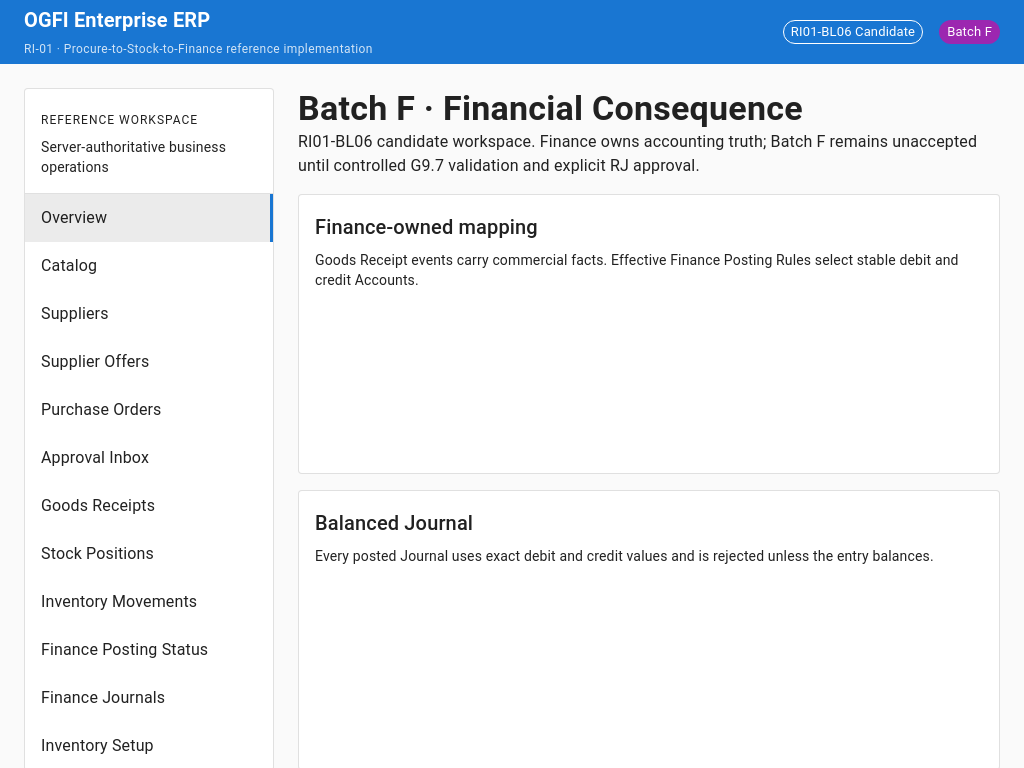
Test case: Batch F application workspace › renders Goods Receipt and derived Stock Position data through generated typed API paths
What coordinates should you click on to do the following:
click the link "Goods Receipts"
I would click on:
 (98, 505)
Its box is [41,496,155,515].
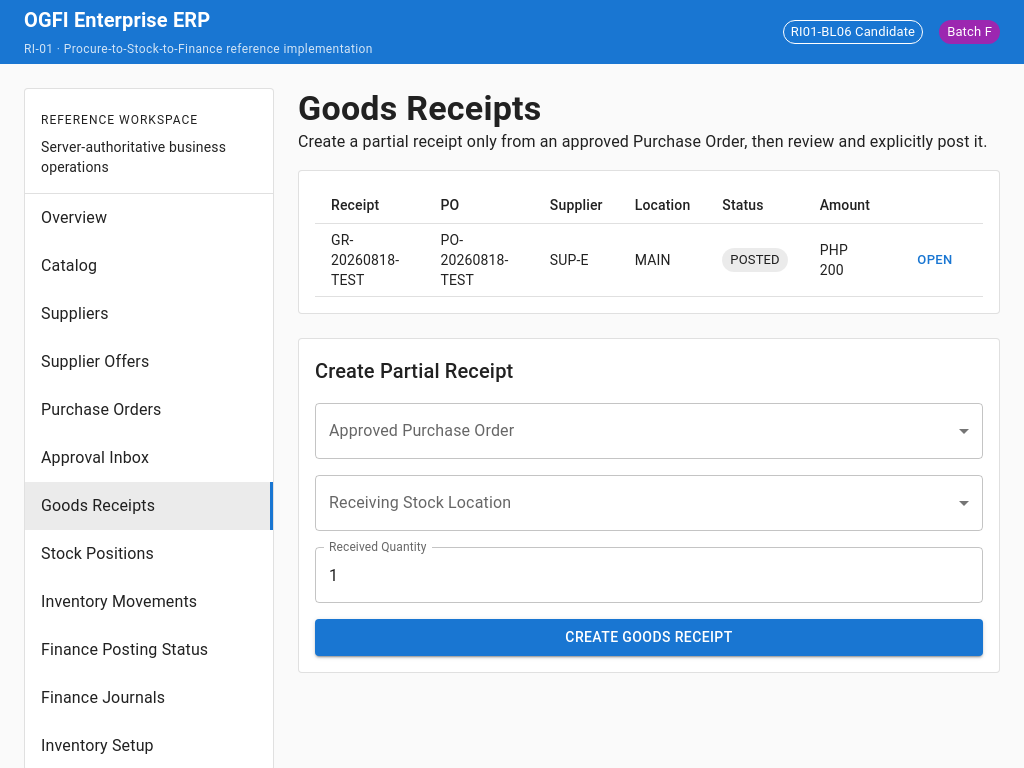
Expected: the text "POSTED" is shown, [730,252,780,267]
Result: the text "GR-20260818-TEST" is shown at [315,224,424,296]
What coordinates should you click on to do the following:
click the link "Stock Positions"
I would click on:
 (98, 553)
Its box is [41,544,154,563].
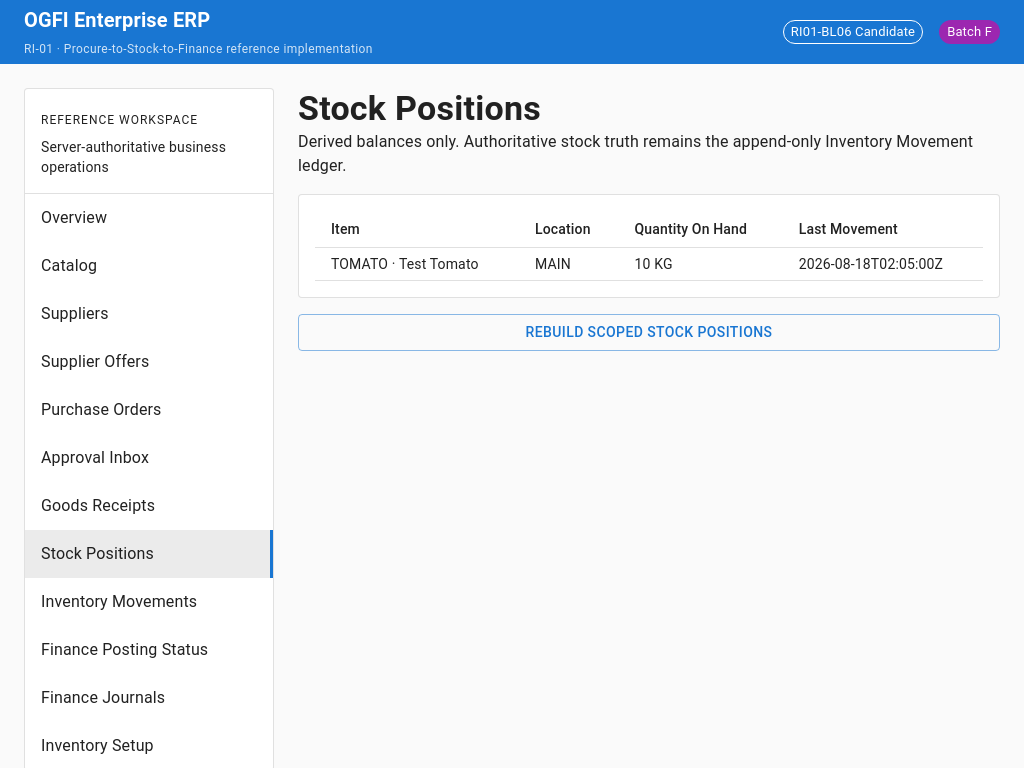
Result: the text "TOMATO · Test Tomato" is shown at [315,248,519,280]
Result: the text "10 KG" is shown at [618,248,783,280]
